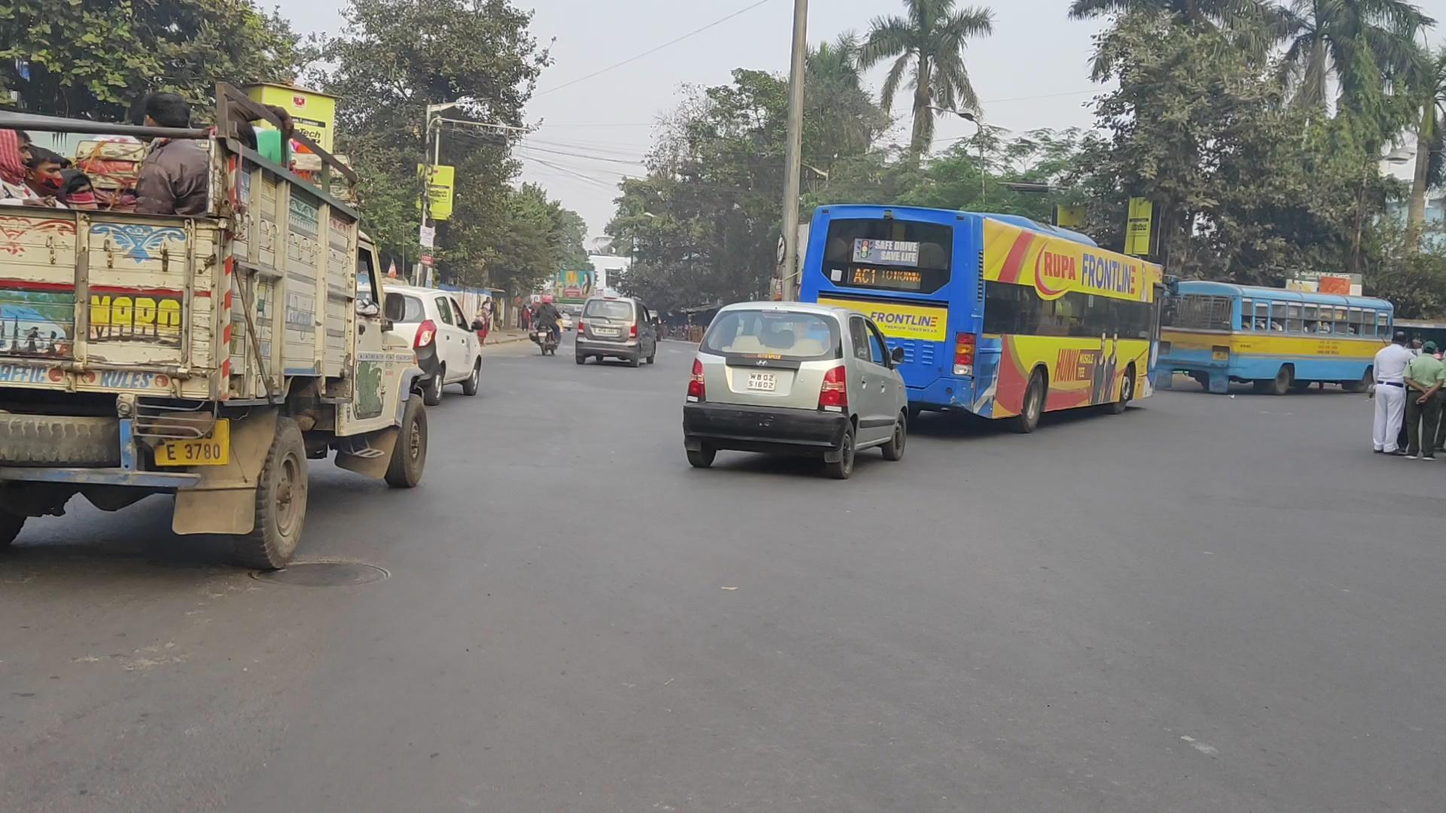Auto: (575, 295, 656, 367)
Bus: (798, 203, 1174, 434), (1161, 279, 1394, 397)
bike: (529, 294, 564, 356)
car: (682, 300, 908, 480), (359, 279, 483, 406)
van: (1, 78, 427, 572)
